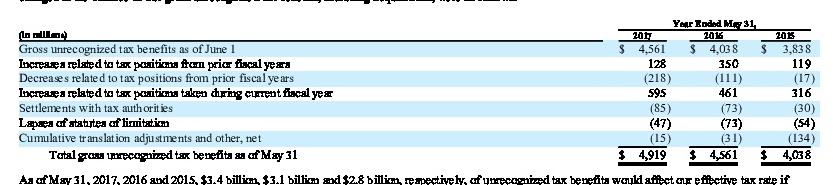table: (0, 0, 833, 185)
